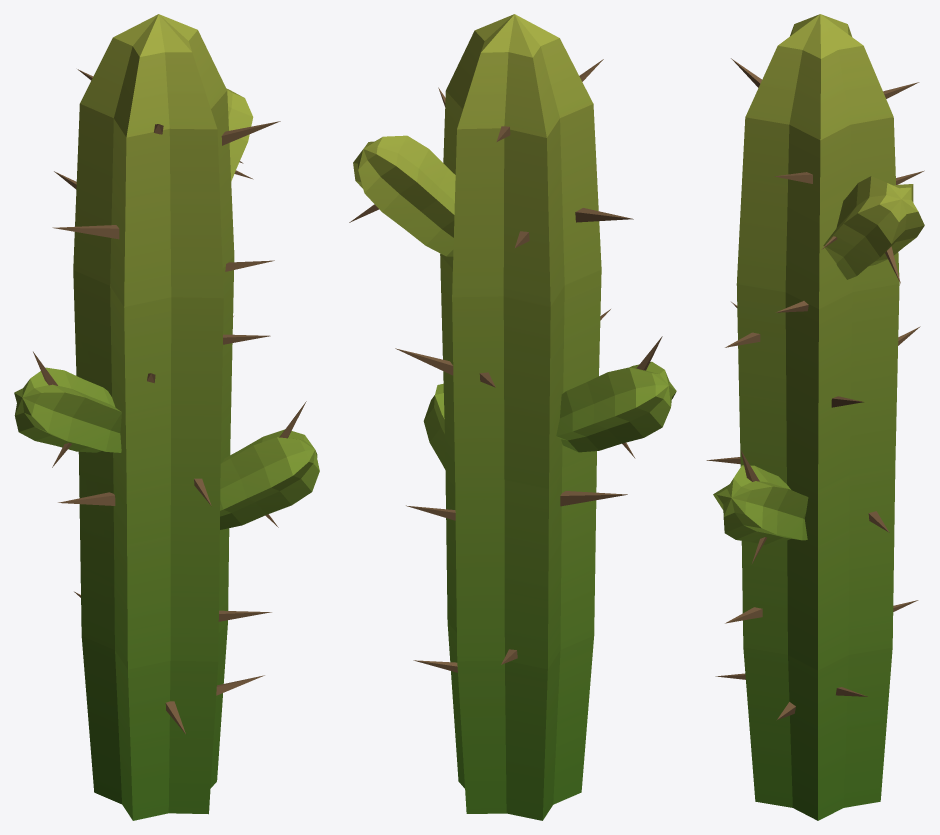
The model's file is Plant_05.fbx.
3 renders of one model, left to right at view 1: azimuth 30°, elevation 25°; view 2: azimuth 150°, elevation 25°; view 3: azimuth 270°, elevation 25°, orthographic.
Visible parts, largest first — view 1: Plant_05; view 2: Plant_05; view 3: Plant_05.
Part boxes in pixels (box(x1,y1,x2,y2)): Plant_05: box(14, 14, 319, 820); Plant_05: box(349, 14, 676, 820); Plant_05: box(706, 14, 924, 820).
Bounding box in the file's own units: 41.86 × 113 × 29.07.
